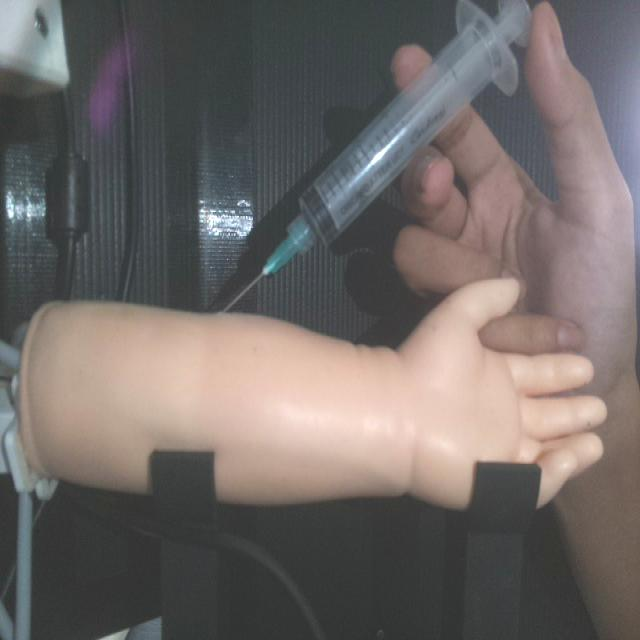Above 30 degrees: (217, 0, 537, 320)
